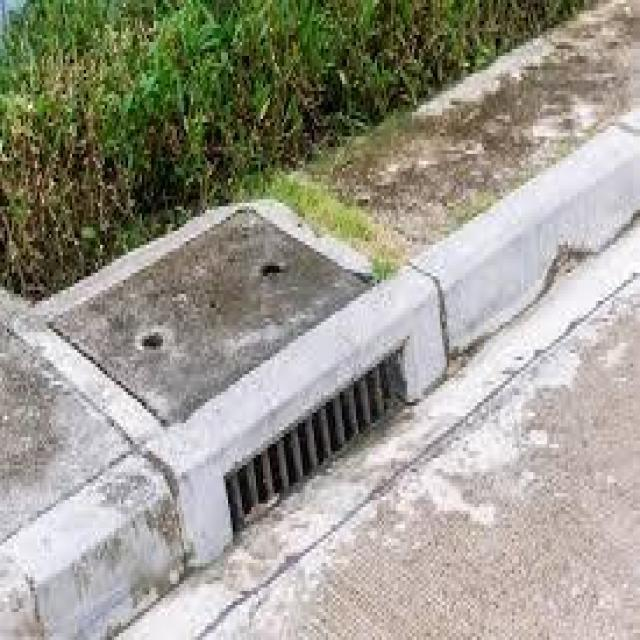bump: (3, 282, 459, 626), (397, 99, 619, 384)
